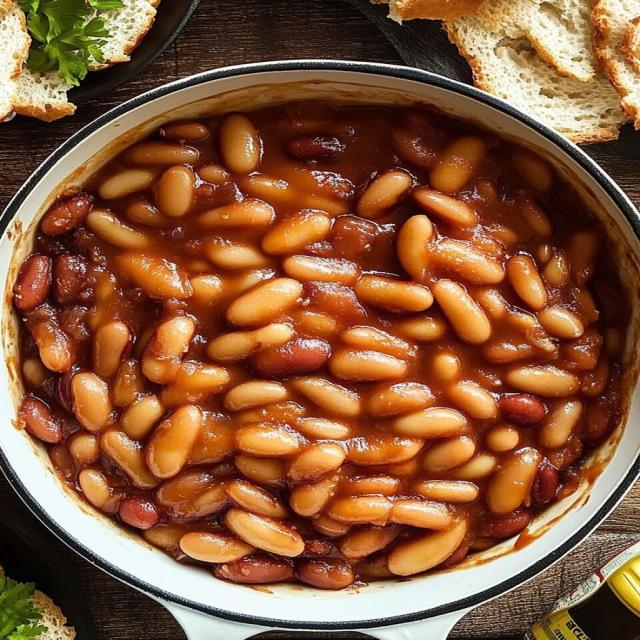beans: (14, 103, 628, 589), (388, 521, 467, 575), (147, 405, 202, 478), (225, 508, 304, 556), (433, 280, 491, 343), (156, 469, 228, 519), (227, 278, 302, 326), (117, 252, 193, 299), (486, 448, 540, 514), (142, 316, 195, 383), (207, 323, 293, 363), (100, 430, 157, 489), (431, 239, 504, 284), (27, 306, 76, 372), (430, 136, 486, 193), (250, 339, 330, 377), (262, 210, 331, 254), (161, 362, 229, 406), (354, 276, 433, 312), (357, 170, 412, 219), (291, 378, 360, 417), (304, 282, 366, 324), (413, 188, 477, 227), (287, 442, 346, 483), (86, 210, 148, 249), (329, 350, 407, 381), (220, 115, 261, 173), (397, 215, 433, 281), (72, 372, 112, 431), (367, 382, 434, 417), (506, 365, 579, 397), (189, 413, 234, 464), (214, 555, 293, 584), (347, 436, 423, 466), (283, 255, 359, 285), (227, 480, 287, 518), (40, 192, 93, 235), (340, 327, 413, 358), (180, 532, 255, 562), (393, 407, 466, 437), (94, 321, 133, 377), (507, 254, 546, 310), (18, 396, 64, 443), (539, 400, 583, 449), (236, 424, 299, 457), (338, 527, 399, 561), (200, 199, 274, 227), (14, 254, 51, 310), (155, 166, 195, 217), (290, 476, 339, 516), (204, 238, 267, 269), (423, 436, 475, 473), (224, 381, 287, 411), (52, 254, 89, 305), (327, 496, 392, 525), (390, 499, 451, 529), (449, 382, 498, 419), (126, 142, 199, 166), (297, 559, 355, 589), (240, 173, 294, 205), (234, 401, 306, 425), (561, 329, 602, 370), (99, 169, 155, 199), (513, 150, 553, 191), (234, 454, 285, 486), (569, 231, 599, 284), (499, 394, 546, 426), (414, 480, 479, 503), (287, 135, 344, 161), (480, 510, 531, 539), (538, 306, 584, 338), (113, 359, 144, 406), (118, 497, 161, 529), (124, 198, 170, 227), (448, 453, 497, 480), (293, 309, 339, 337), (395, 316, 446, 341), (78, 469, 110, 508), (532, 458, 558, 505), (520, 200, 553, 237), (581, 355, 610, 396), (295, 418, 349, 439), (143, 524, 184, 551), (344, 475, 399, 495), (67, 432, 99, 466), (358, 552, 394, 580), (543, 251, 570, 287), (161, 121, 209, 141), (190, 275, 222, 303), (486, 425, 519, 452), (314, 513, 351, 537), (432, 352, 462, 381), (22, 357, 50, 387), (198, 164, 230, 184), (301, 537, 333, 557)
